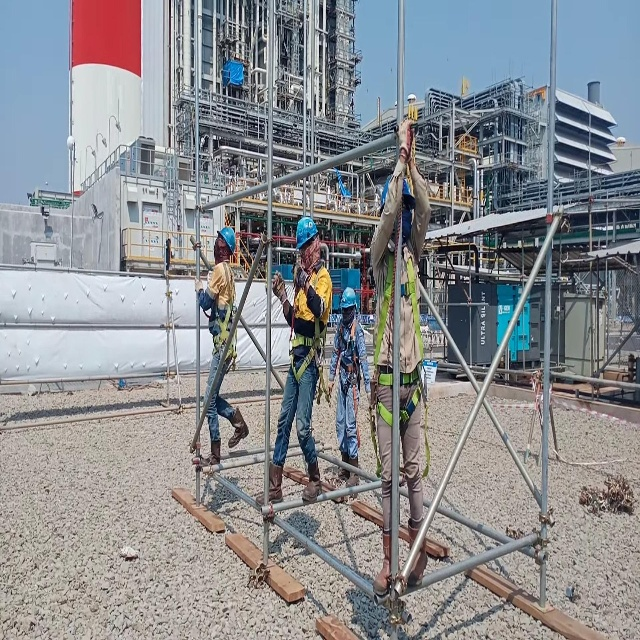Arnes_seguridad: (370, 246, 433, 483), (288, 262, 326, 396), (335, 312, 362, 450), (209, 258, 240, 377)
